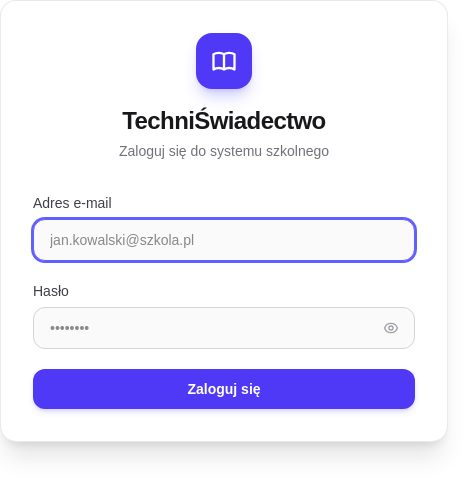
it: LoginForm › validates email format
Type "invalid-email" into the field labelled "Adres e-mail".
click(224, 240); type("invalid-email")  # box [33,219,415,261]
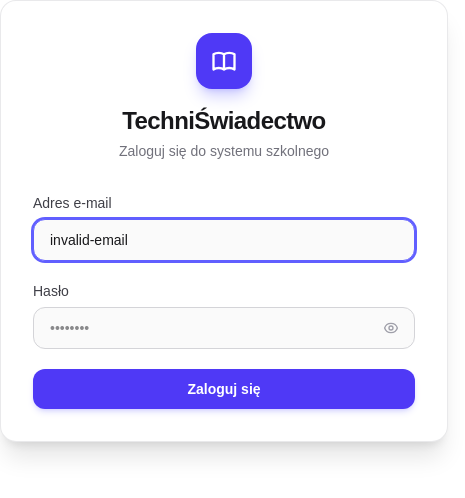
Type "password123" into the password field labelled "Hasło".
click(224, 328); type("password123")  # box [33,307,415,349]
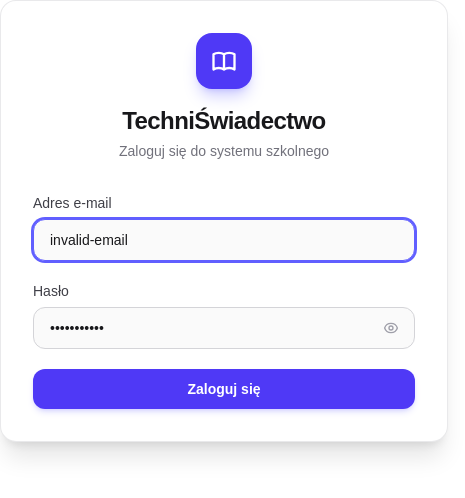
Click the button "Zaloguj się".
click(224, 389)  # box [33,369,415,409]
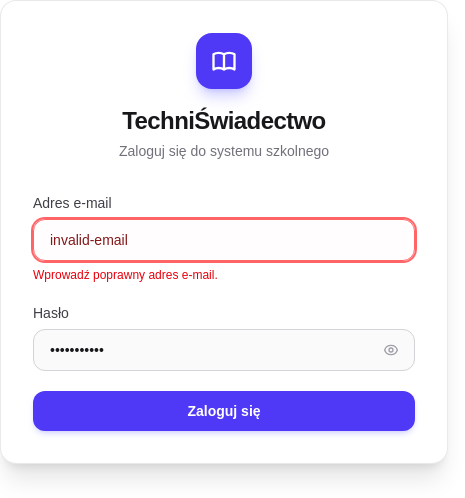
Expected: the text "Wprowadź poprawny adres e-mail." is shown, [33,268,218,282]
